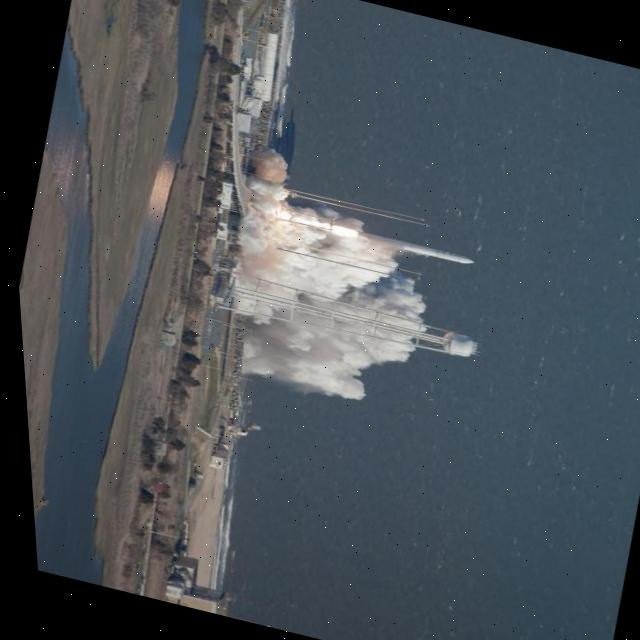missile: (344, 224, 476, 276)
